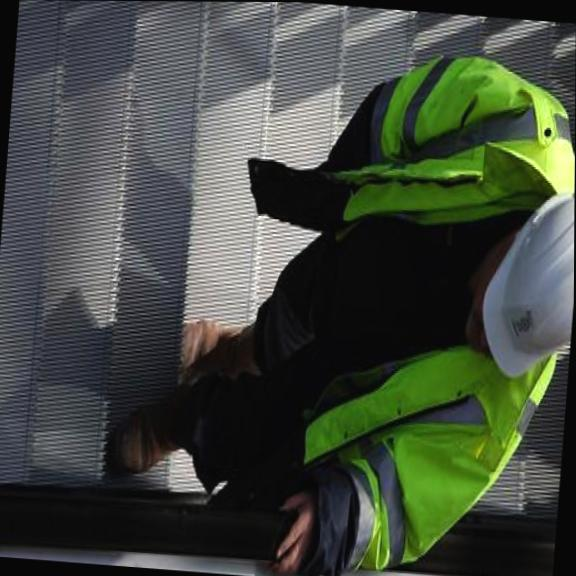safety_vest: (289, 36, 576, 576)
